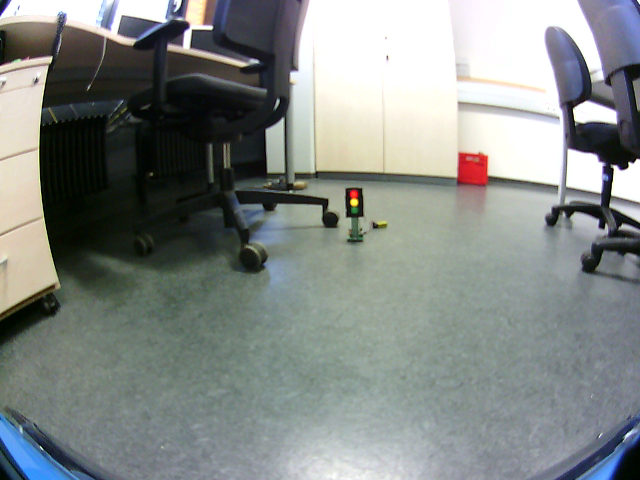red yellow trafficlight: (347, 190, 361, 217)
